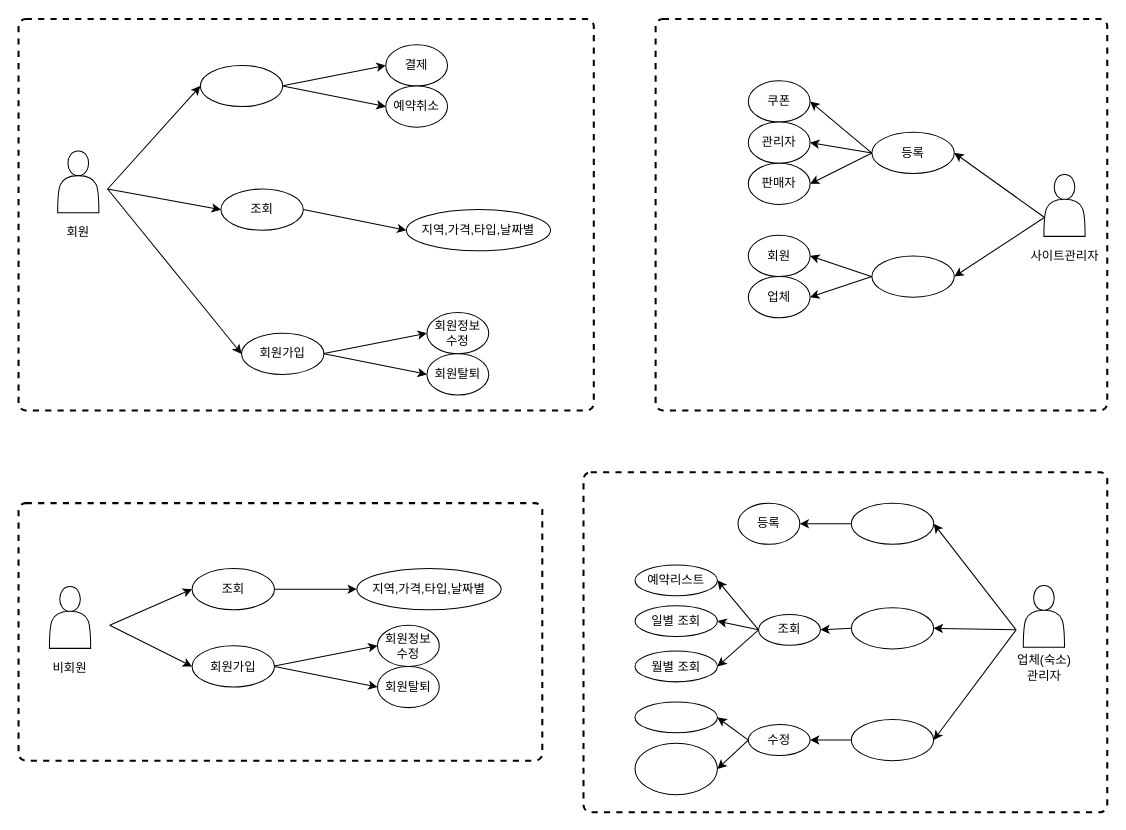
Image size: 1126x830. Some labels were removed from this diagram. The centre of each missing label's shape, as x and y in pixels:
성수기 기간 수정: point (675, 768)
숙소 관리: point (892, 523)
예약: point (241, 85)
예약 관리: point (892, 628)
요금 수정: point (675, 717)
조회 (이용자): point (912, 276)
판매 환경설정: point (892, 739)
